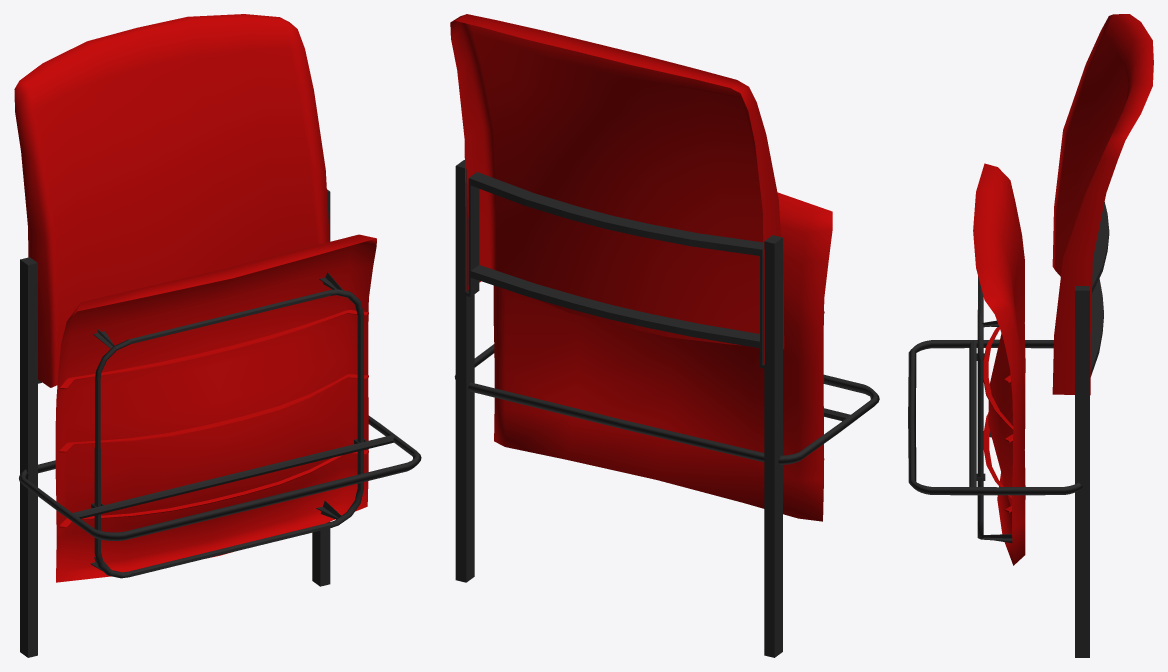
The model's file is L2_seat_A_merged.fbx.
3 renders of one model, left to right at view 1: azimuth 30°, elevation 25°; view 2: azimuth 150°, elevation 25°; view 3: azimuth 270°, elevation 25°, orthographic. The views are drawn at different scales.
Visible parts, largest first — view 1: L2_seat_A_merged; view 2: L2_seat_A_merged; view 3: L2_seat_A_merged.
Boxes of the visible parts, x1,y1,x2,y2 form: L2_seat_A_merged: (14, 14, 421, 657); L2_seat_A_merged: (450, 14, 879, 657); L2_seat_A_merged: (908, 14, 1153, 657).
Bounding box in the file's own units: 42.94 × 70.22 × 29.61.
